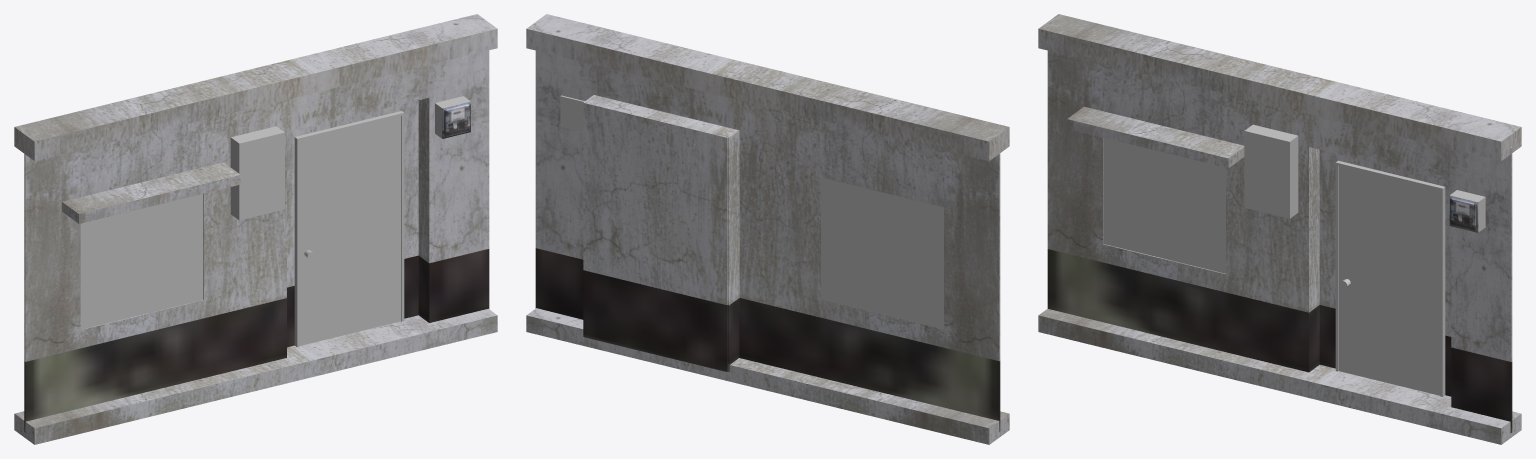
The model's file is shop_f_null04c.fbx.
3 views of the same model, side by side, from view 1: azimuth 30°, elevation 25°; view 2: azimuth 150°, elevation 25°; view 3: azimuth 330°, elevation 25° (orthographic).
Parts seen in each view (by area): view 1: shop_f_null04c; view 2: shop_f_null04c; view 3: shop_f_null04c.
Boxes of the visible parts, x1,y1,x2,y2 form: shop_f_null04c: (14, 14, 497, 444); shop_f_null04c: (526, 14, 1009, 444); shop_f_null04c: (1038, 14, 1521, 444).
Bounding box in the file's own units: 5.46 × 3.41 × 0.5856.
